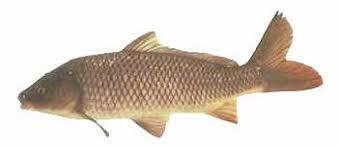Grass Carp: (16, 10, 324, 138)
